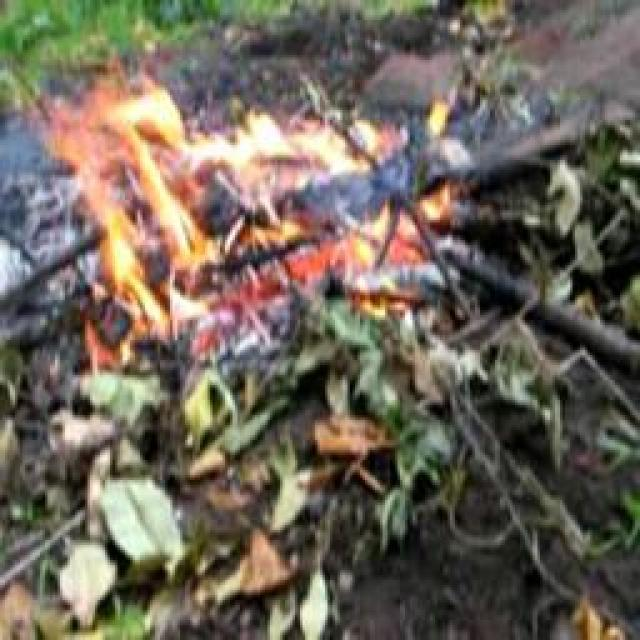Fire: (34, 93, 448, 317)
